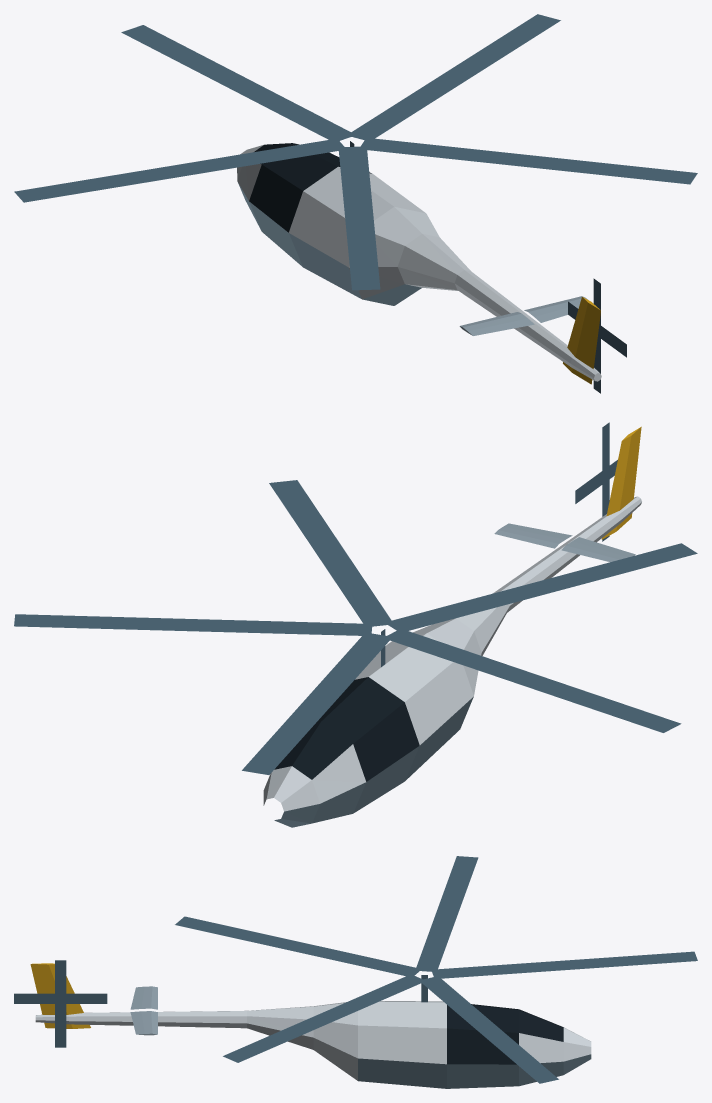
The picture shows the model from 3 angles, top to bottom: view 1: azimuth 30°, elevation 25°; view 2: azimuth 150°, elevation 25°; view 3: azimuth 270°, elevation 25°; orthographic projection. The views are drawn at different scales.
Parts seen in each view (by area): view 1: lod0; view 2: lod0; view 3: lod0.
Boxes of the visible parts, x1,y1,x2,y2 form: lod0: [14, 14, 697, 393]; lod0: [14, 422, 697, 827]; lod0: [14, 856, 697, 1088].
Size of what is drawn, in the model's own units: 0.7882 by 0.2153 by 1.
